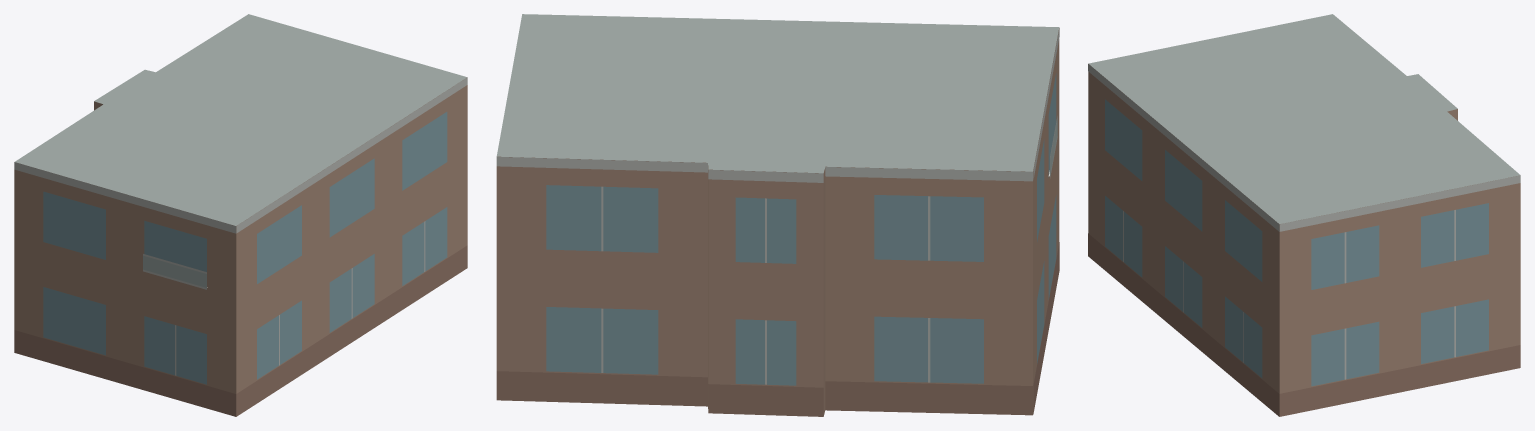
File: survey-upis-32936811.glb
3 views of the same model, side by side, from view 1: azimuth 30°, elevation 25°; view 2: azimuth 150°, elevation 25°; view 3: azimuth 270°, elevation 25° (orthographic). The views are drawn at different scales.
Visible parts, largest first — view 1: survey-upis-32936811.tmp; view 2: survey-upis-32936811.tmp; view 3: survey-upis-32936811.tmp.
Boxes of the visible parts, x1,y1,x2,y2 form: survey-upis-32936811.tmp: (14,14,467,416); survey-upis-32936811.tmp: (496,14,1059,416); survey-upis-32936811.tmp: (1088,14,1520,416).
Size of the model in its own units: 14.28 by 6.1 by 12.42.
